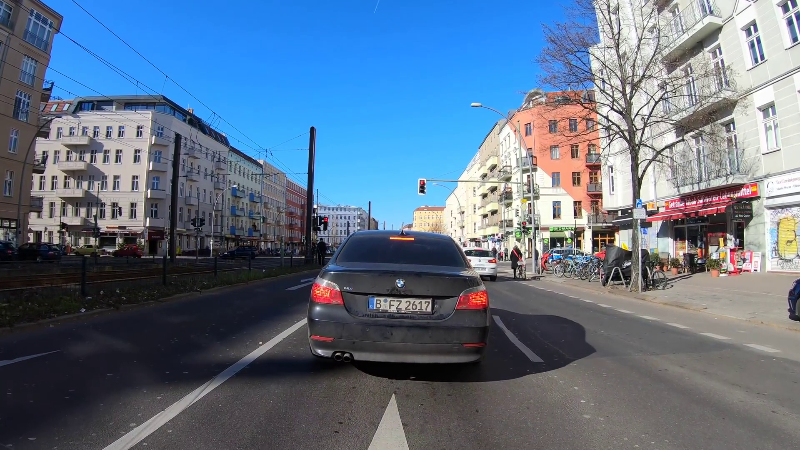Plate: (368, 296, 433, 316)
